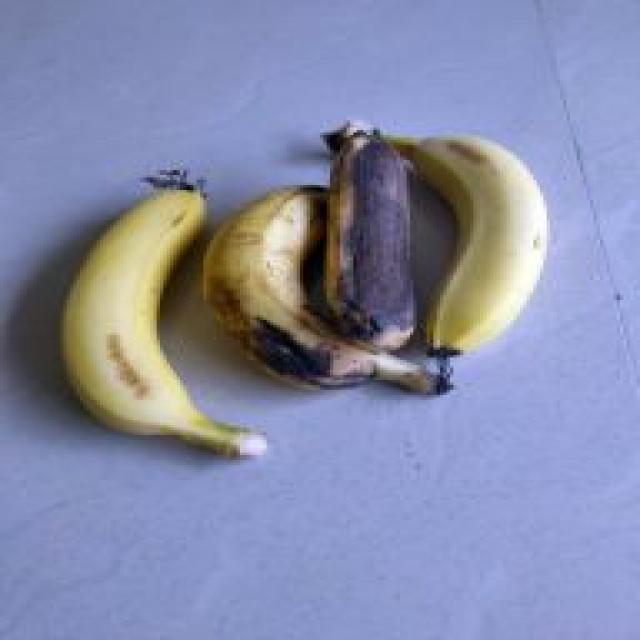Wet: (197, 178, 453, 398), (320, 125, 417, 353)
